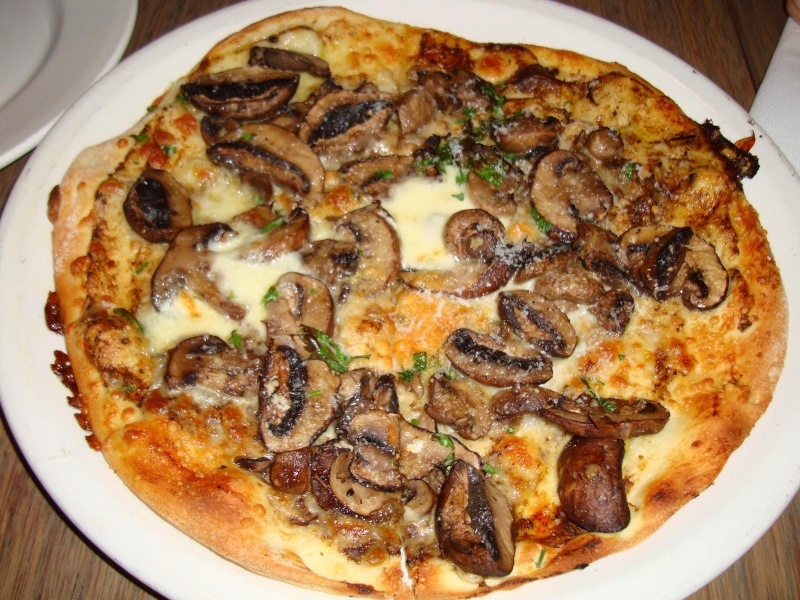champignon: (426, 458, 523, 580), (197, 120, 339, 201), (298, 206, 419, 297), (253, 354, 347, 458), (523, 142, 615, 244), (435, 321, 565, 390), (493, 285, 595, 362), (323, 442, 416, 520)
